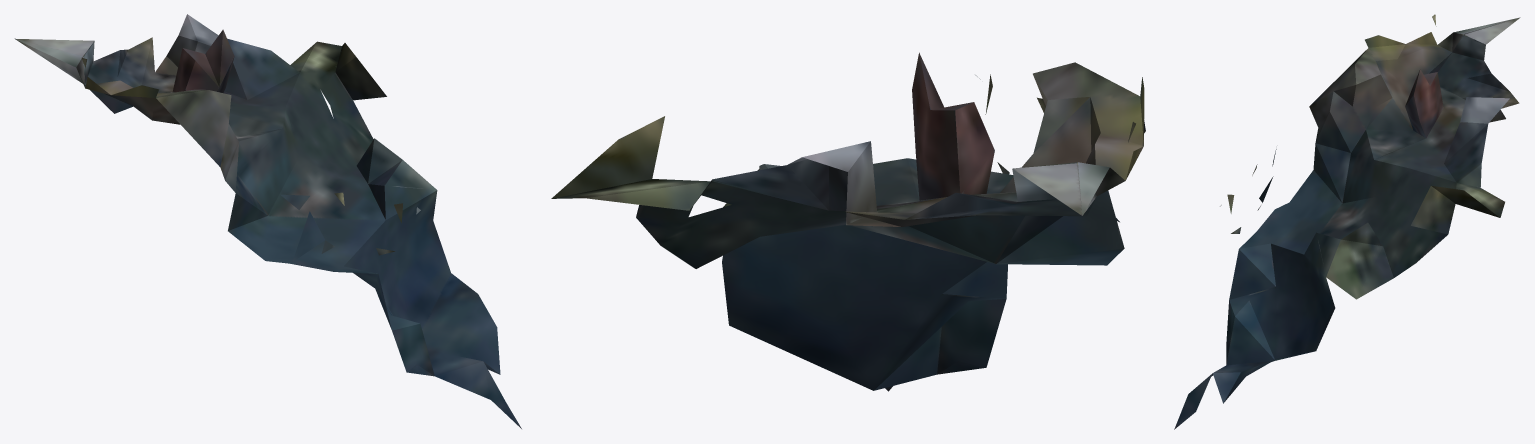
The model's file is Tile_005_006_L16.gltf.
3 renders of one model, left to right at view 1: azimuth 30°, elevation 25°; view 2: azimuth 150°, elevation 25°; view 3: azimuth 270°, elevation 25°, orthographic. The views are drawn at different scales.
Visible parts, largest first — view 1: Tile_+005_+006_L16; view 2: Tile_+005_+006_L16; view 3: Tile_+005_+006_L16.
Part boxes in pixels (bbox=[...]): Tile_+005_+006_L16: bbox=[14, 14, 521, 428]; Tile_+005_+006_L16: bbox=[551, 52, 1145, 391]; Tile_+005_+006_L16: bbox=[1174, 14, 1520, 429].
Size of the model in its own units: 54.59 by 53.89 by 57.7.
Materials: 1 (1 with a texture image).
